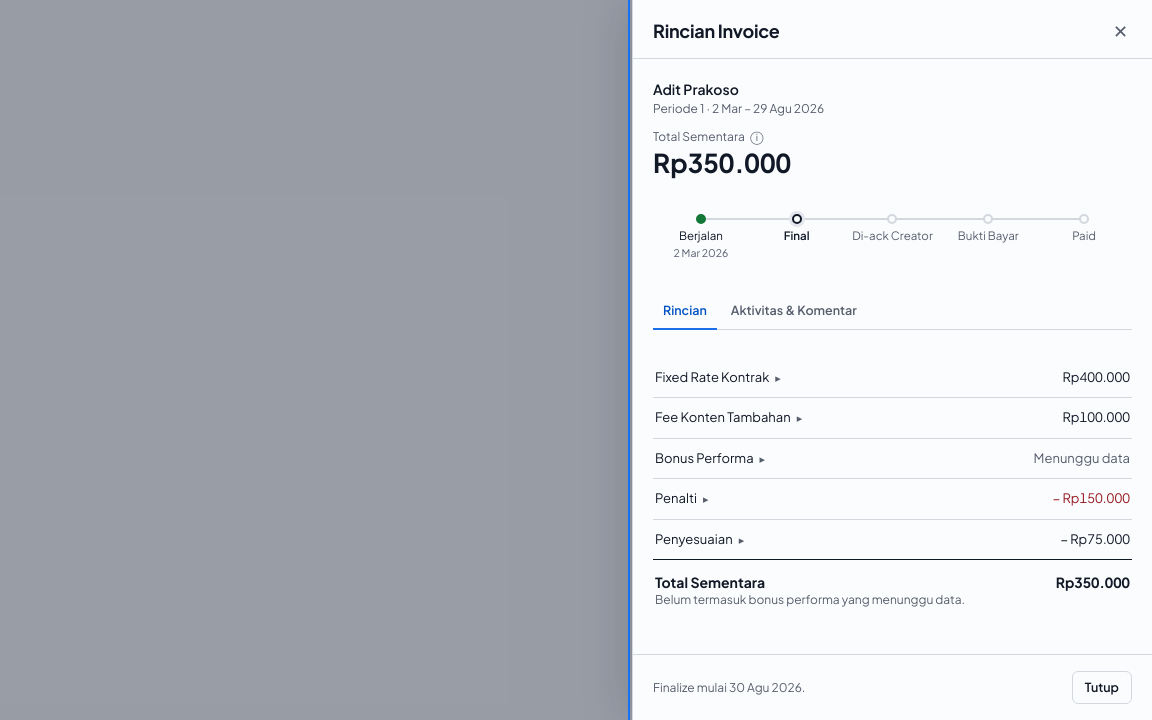
it: InvoiceRincian › lists each manual adjustment with its reason, its moment and what it moved
Click the button "Penyesuaian ▸ − Rp75.000".
click(694, 539)  # box [653,520,1132,559]
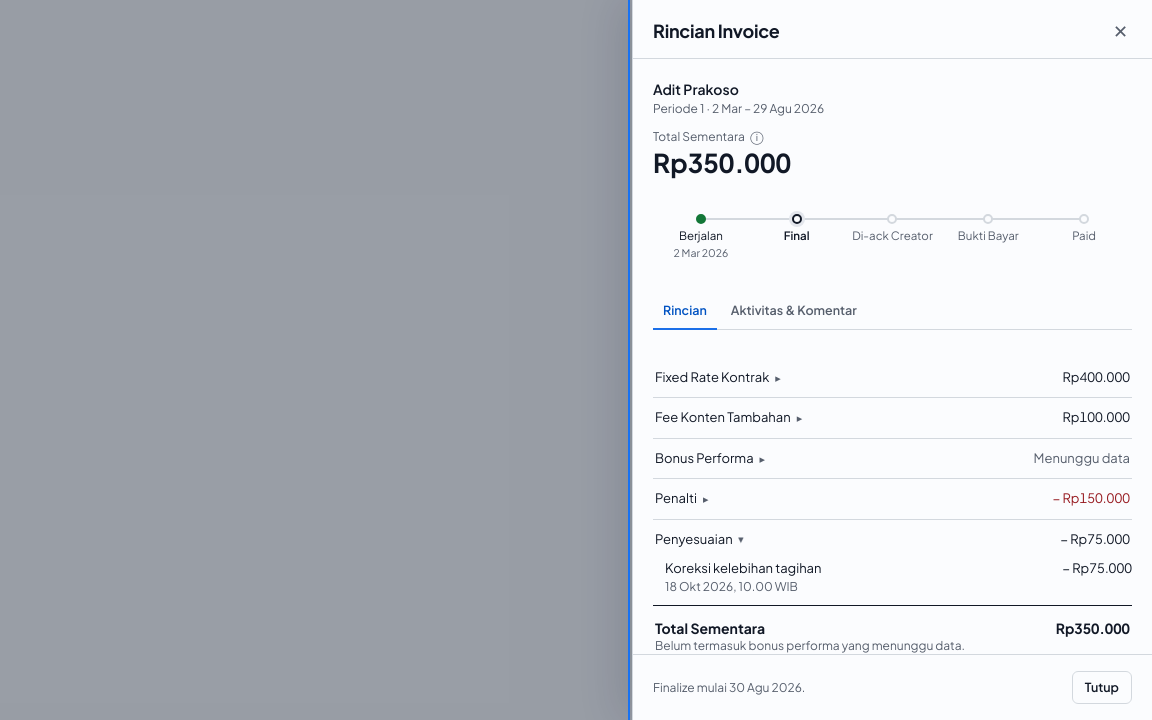
Expected: the text "Koreksi kelebihan tagihan" is shown, [665,560,822,576]
